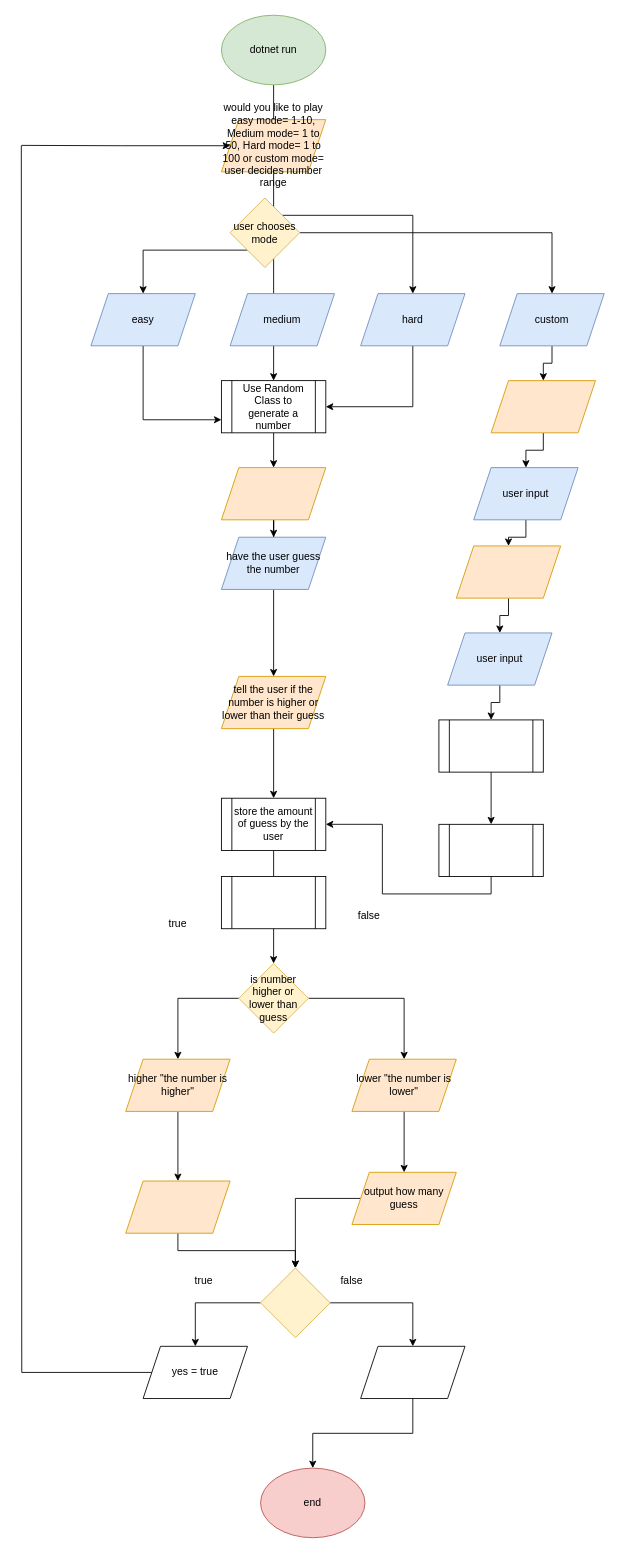
Image size: 619x1553. Some labels were removed from this diagram. The shapes that lost their labels are listed below. From the top down, each one's box as (x1, y1, x2, y2) in pixels, then its label:
(490, 380, 596, 433): asks user to input number 1
(221, 467, 326, 520): output the number
(455, 545, 561, 598): asks user to input number 2
(438, 719, 543, 772): determines the range
(438, 823, 543, 877): Uses Random Class to generate a number
(221, 876, 326, 929): Checks if number guessed is higher or lower than generated number
(125, 1180, 230, 1233): output how many guesses
(260, 1267, 330, 1338): would you like to play again?
(360, 1345, 465, 1399): no = false
